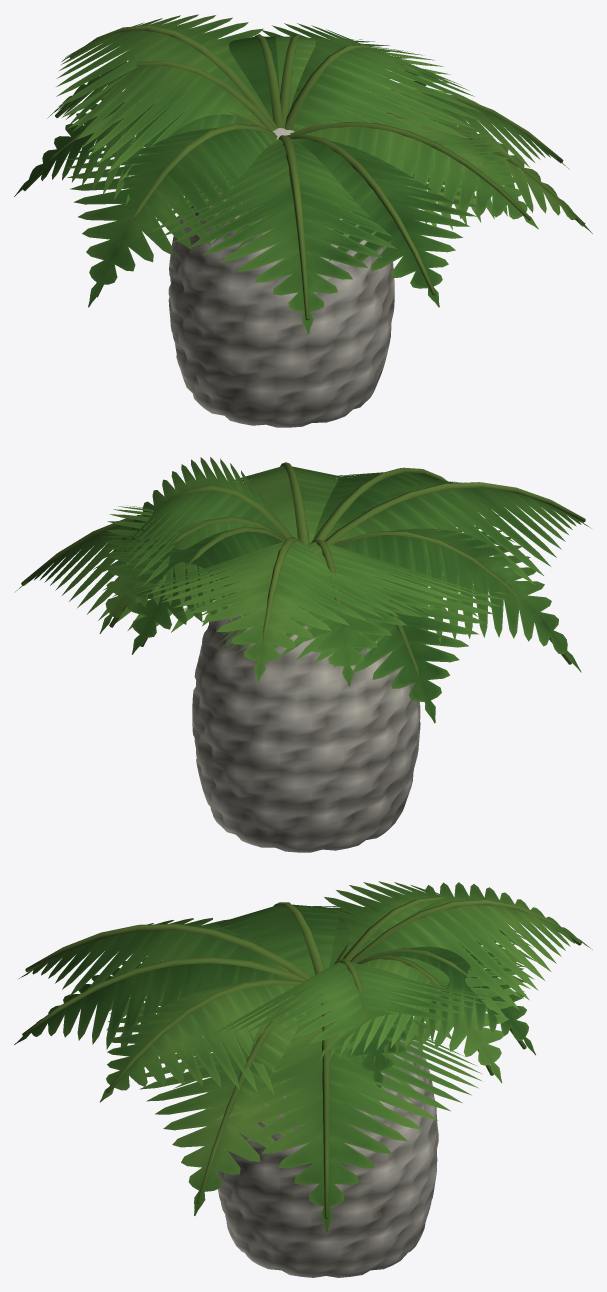
The model's file is PLN_Cycad_Small.fbx.
The picture shows the model from 3 angles, top to bottom: view 1: azimuth 30°, elevation 25°; view 2: azimuth 150°, elevation 25°; view 3: azimuth 270°, elevation 25°; orthographic projection.
Parts seen in each view (by area): view 1: PLN_Cycad_Small; view 2: PLN_Cycad_Small; view 3: PLN_Cycad_Small.
Part boxes in pixels (<box>): PLN_Cycad_Small: <box>14,14,592,427</box>; PLN_Cycad_Small: <box>15,457,591,852</box>; PLN_Cycad_Small: <box>14,881,592,1277</box>.
Bounding box in the file's own units: 1.19 × 0.7028 × 1.15.
